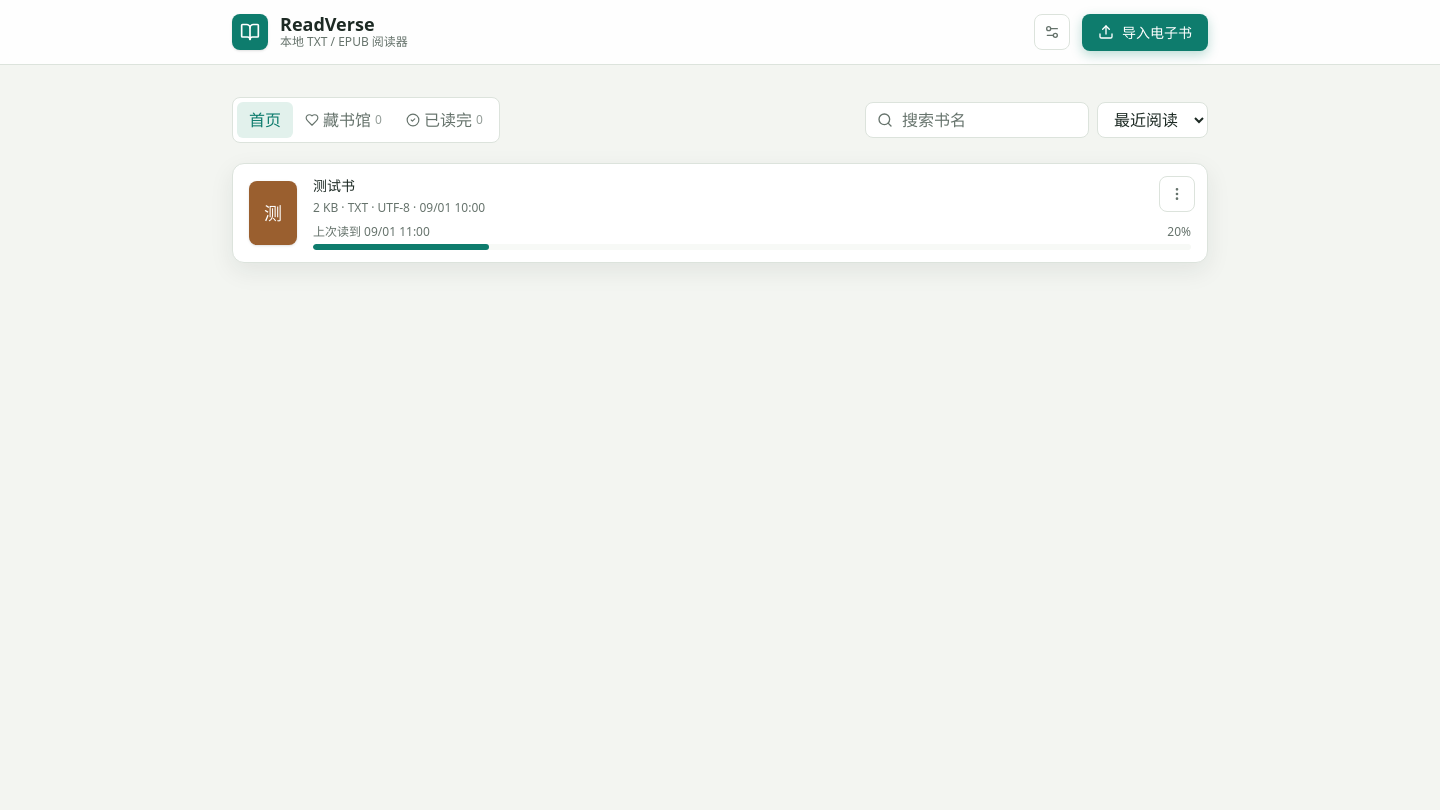
Test: Shelf › renames a book locally
Expected: the text "测试书" is shown, [313,176,355,196]
Click the button titled "更多操作" at (1177, 194), box [1159,176,1195,212]
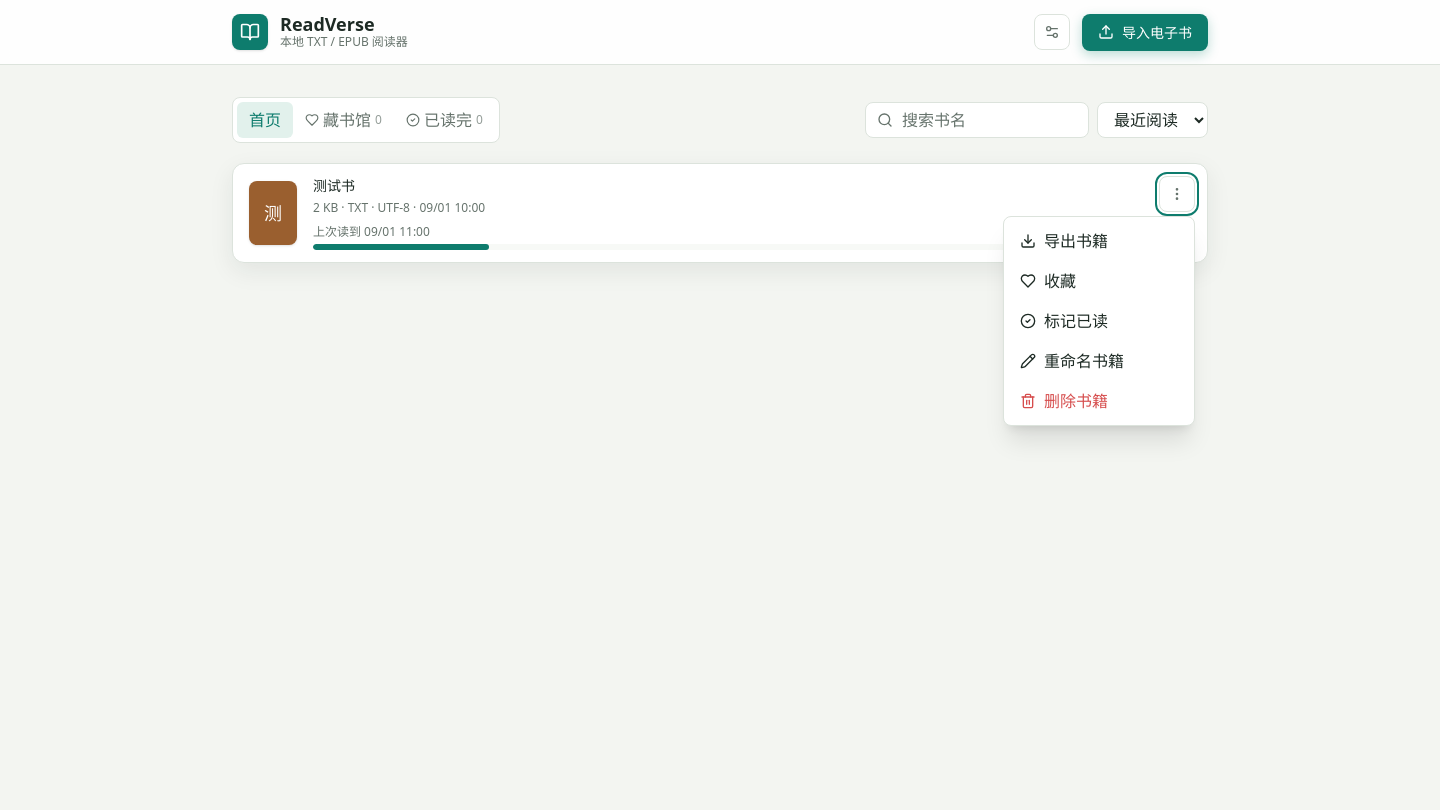
Click the button "重命名书籍" at (1099, 361), box [1008,341,1190,381]
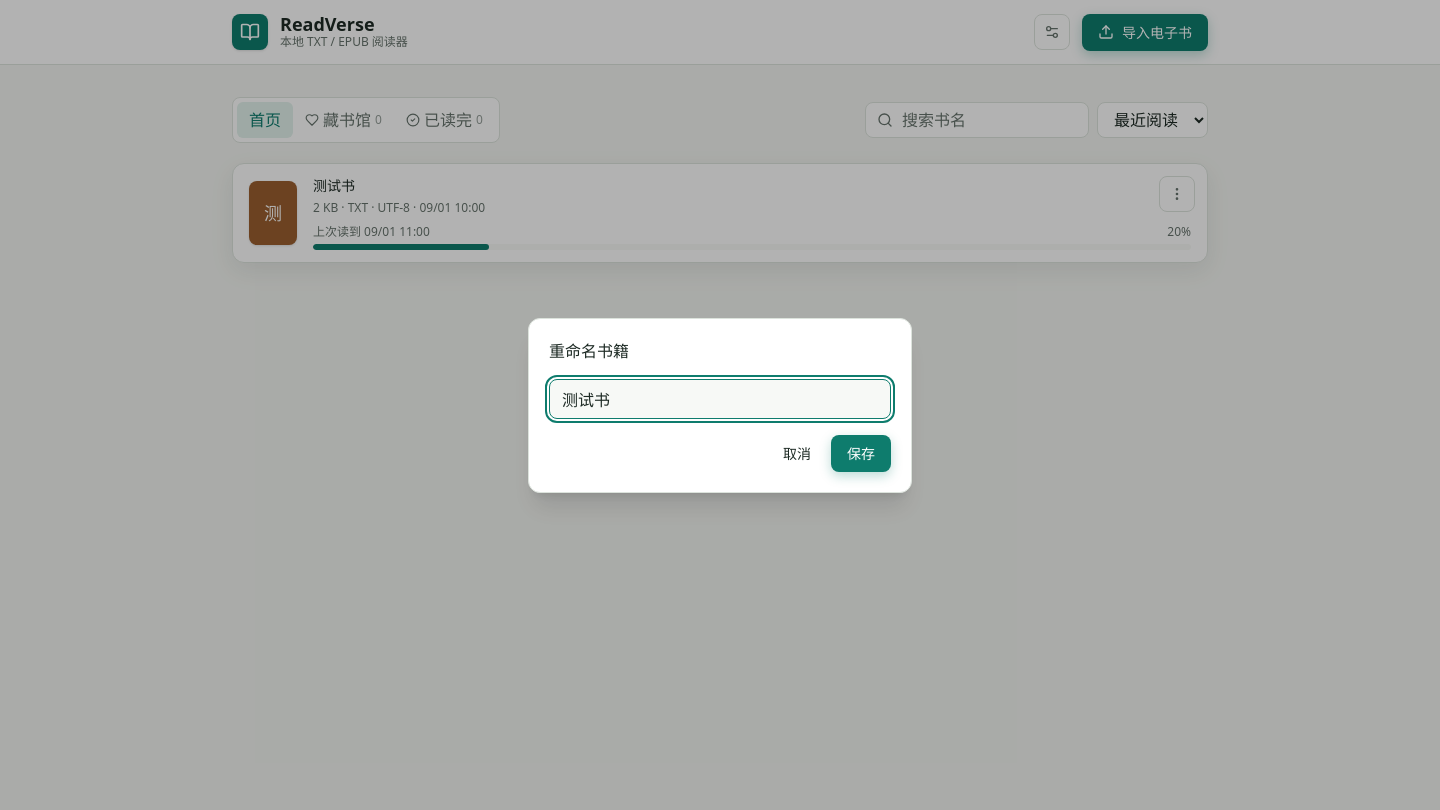
Replace the text in the field with placeholder "输入新的显示名称" with "新名字" at (720, 398), box [549,378,891,418]
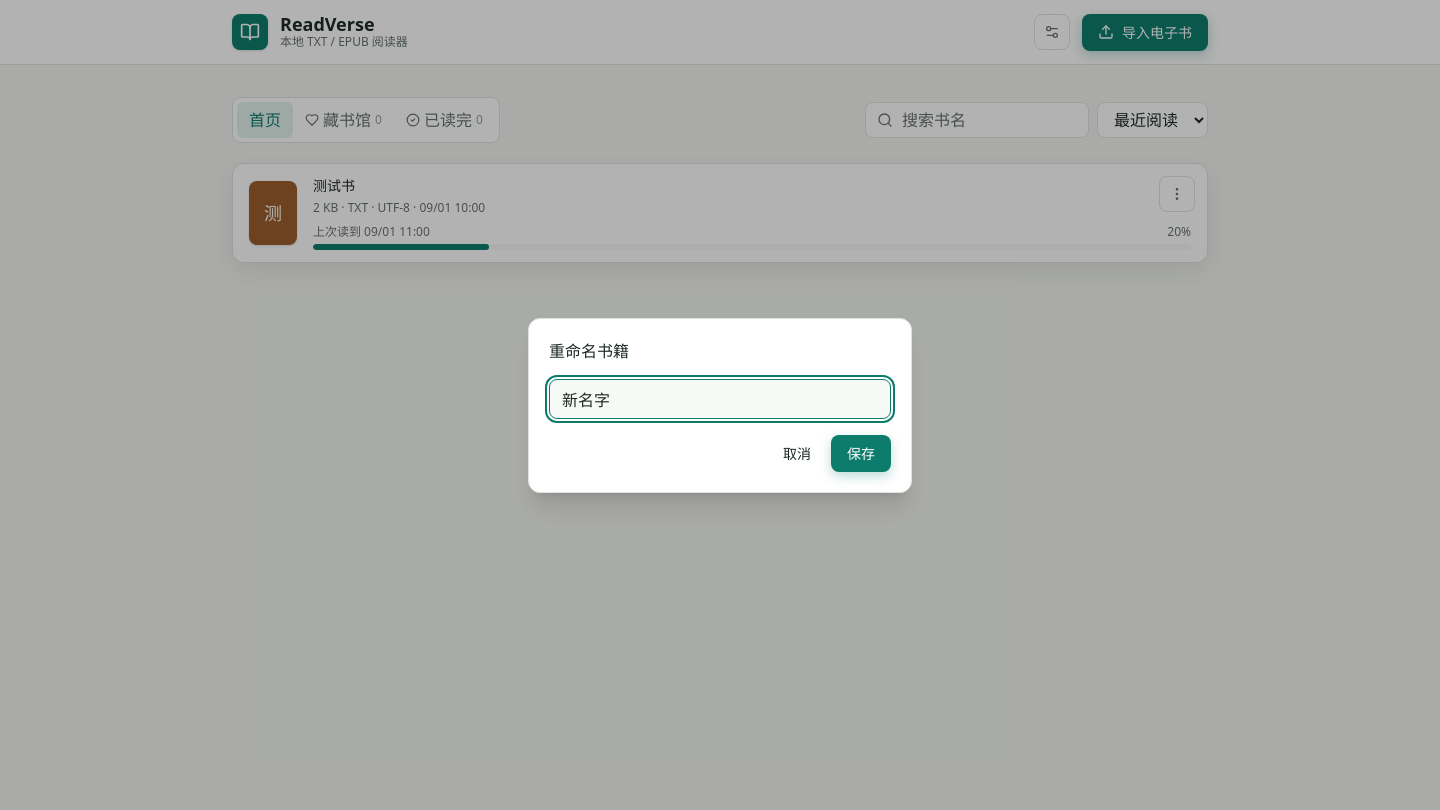
Click the button "保存" at (861, 453), box [831,434,891,472]
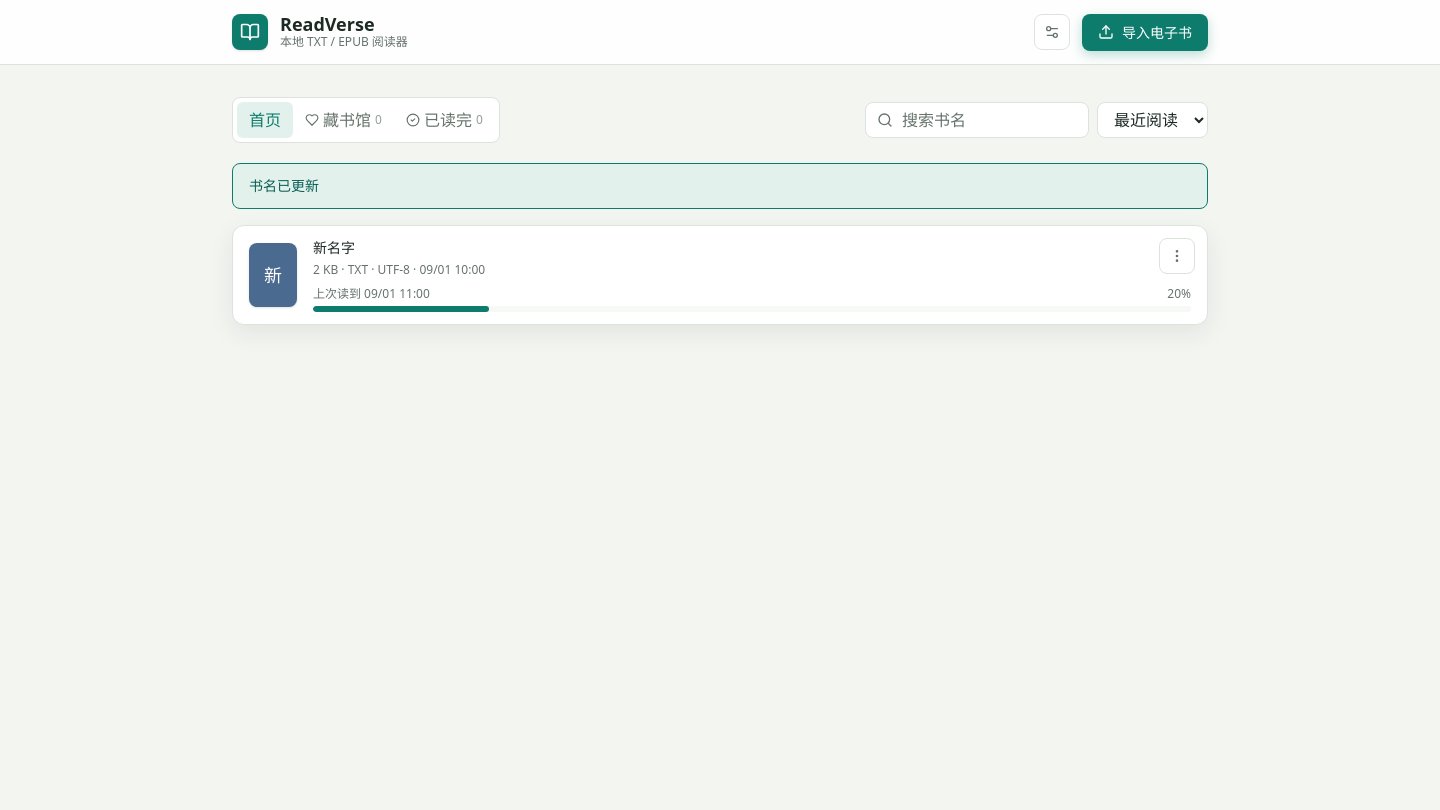
Expected: the text "新名字" is shown, [313,238,355,258]
